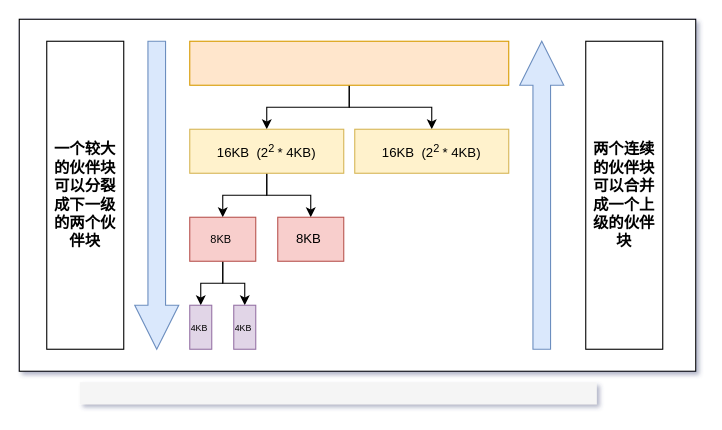
This 722x430 diagram has some shape labels left out. Here are the shapes that lost their labels. From the top down, the centre of each, then its label:
At point 349,62: "32KB (2 3 * 4KB)".
At point 337,393: "伙伴系统的基本思想，基于伙伴块进行分裂与合并".
